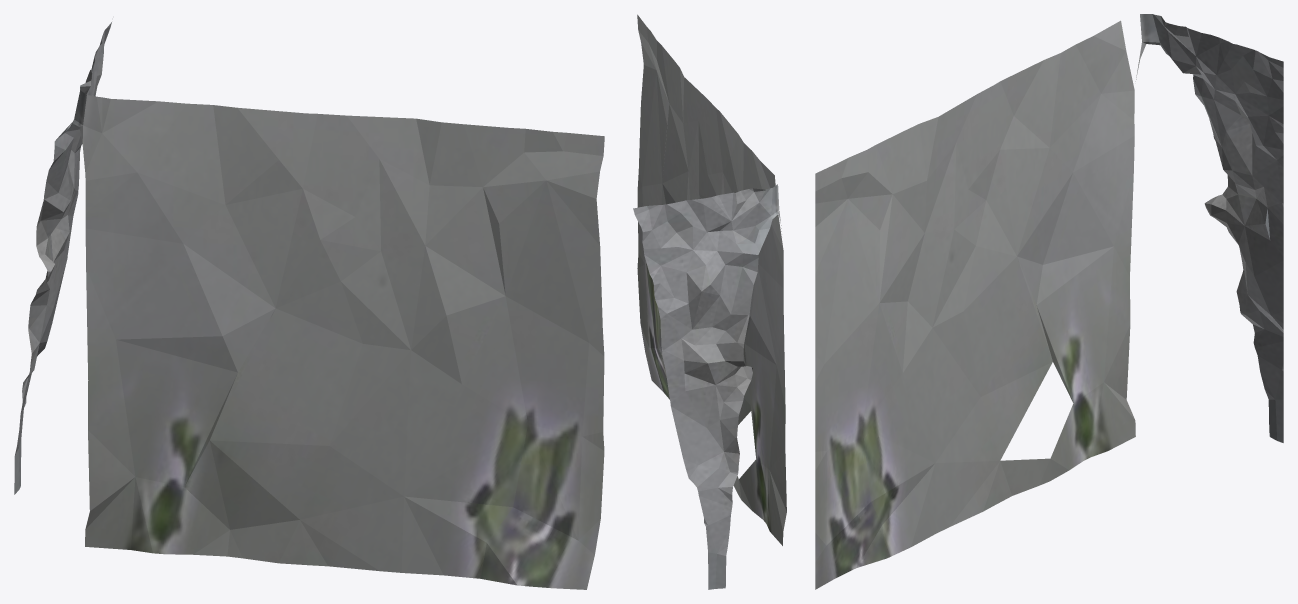
The picture shows the model from 3 angles, left to right: view 1: azimuth 30°, elevation 25°; view 2: azimuth 150°, elevation 25°; view 3: azimuth 270°, elevation 25°; orthographic projection. The views are drawn at different scales.
Size of the model in its own units: 0.6828 by 0.8374 by 0.8374.
Materials: 3 (3 with a texture image).
